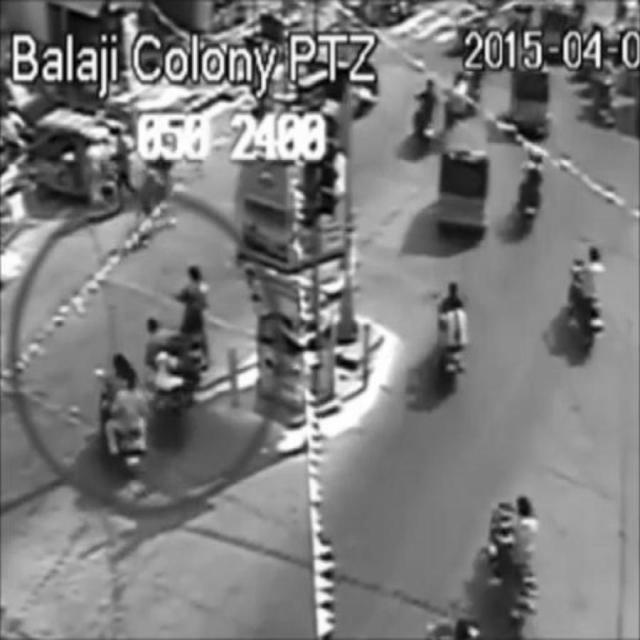accident: (145, 252, 222, 464)
vehicle: (481, 486, 541, 634), (90, 354, 152, 490), (36, 110, 110, 210), (439, 118, 493, 249), (429, 277, 471, 397), (558, 246, 604, 354), (512, 57, 556, 141), (514, 150, 548, 224), (411, 78, 441, 151)
